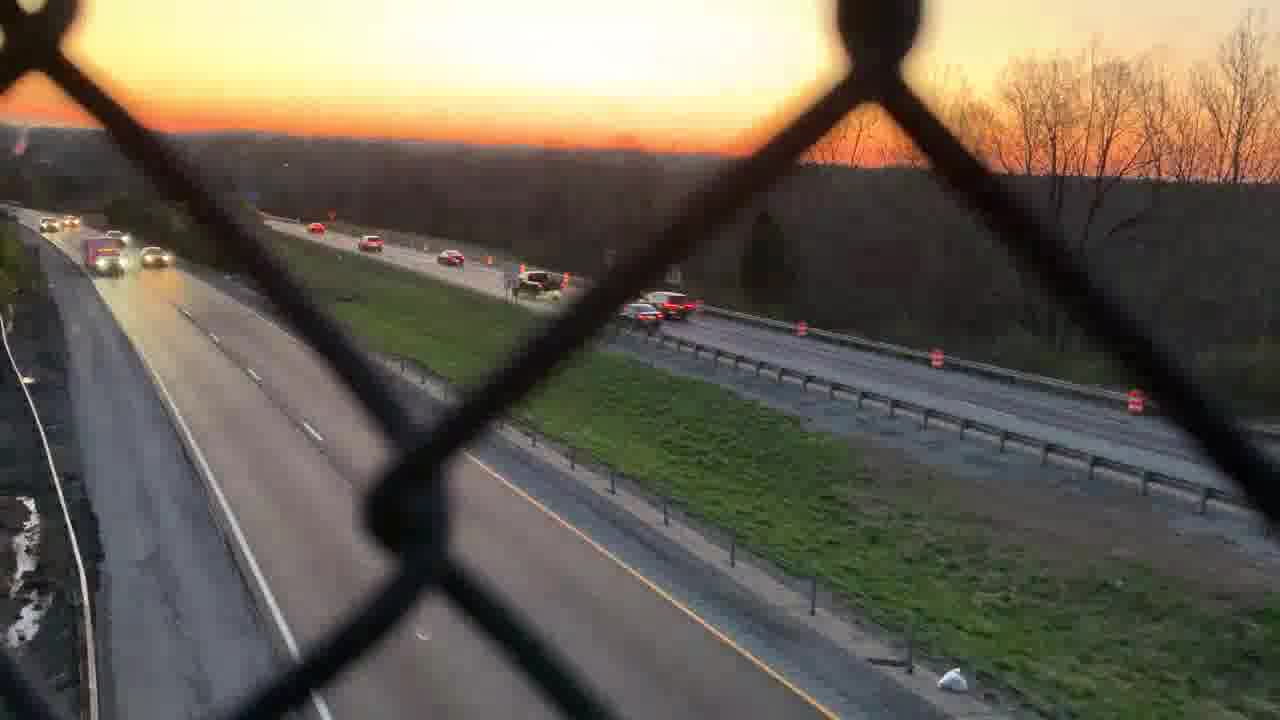lightTruck: (505, 265, 566, 301)
smallCar: (615, 303, 666, 326), (434, 246, 466, 264)
